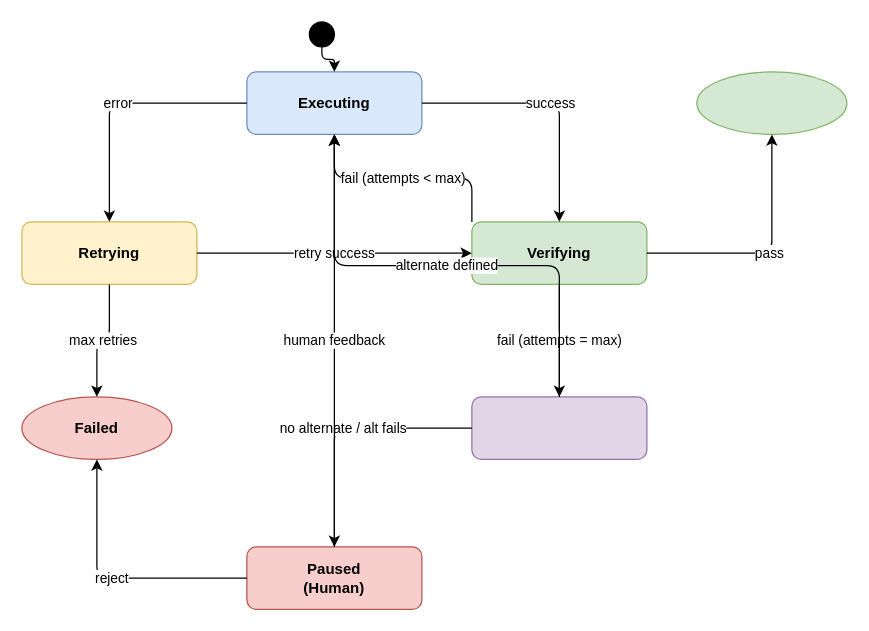
Image size: 869x631. Some labels were removed from this diagram. Here are the shapes that lost their labels. From the top down, the box of each, then its label:
(696, 71, 847, 134): Completed
(471, 396, 647, 459): Switching Strategy
